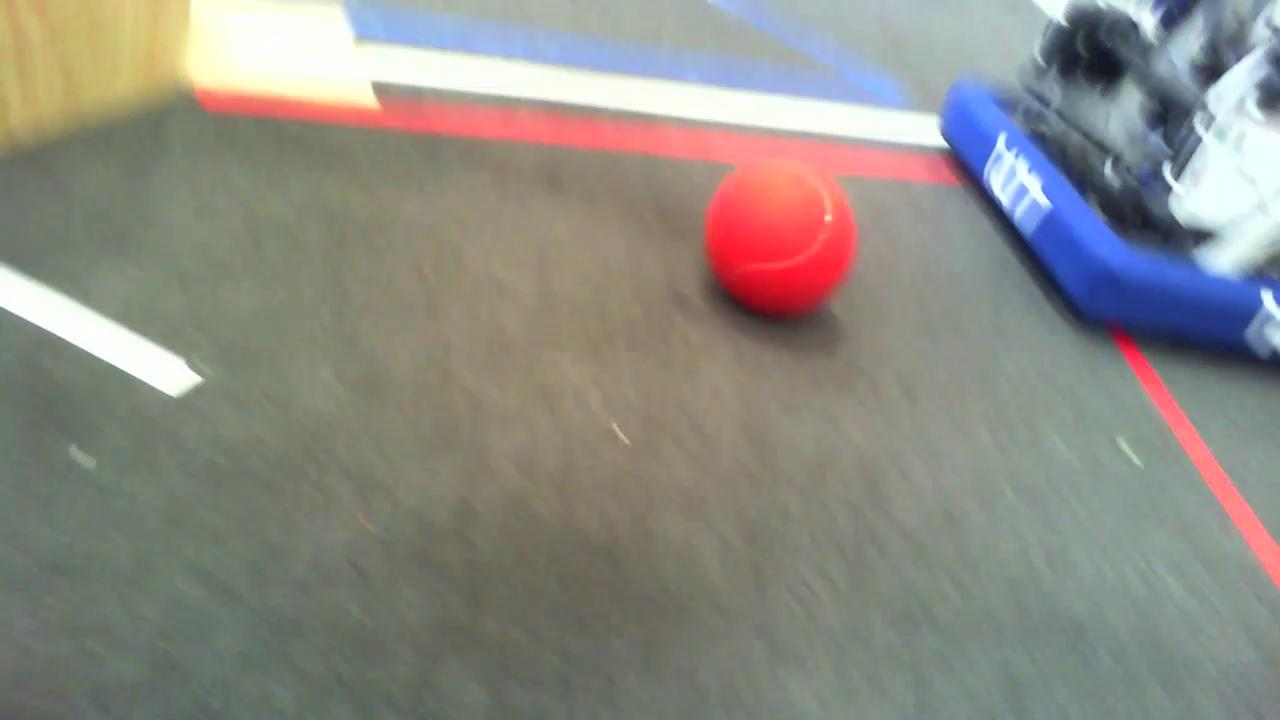robot: (940, 0, 1280, 362)
